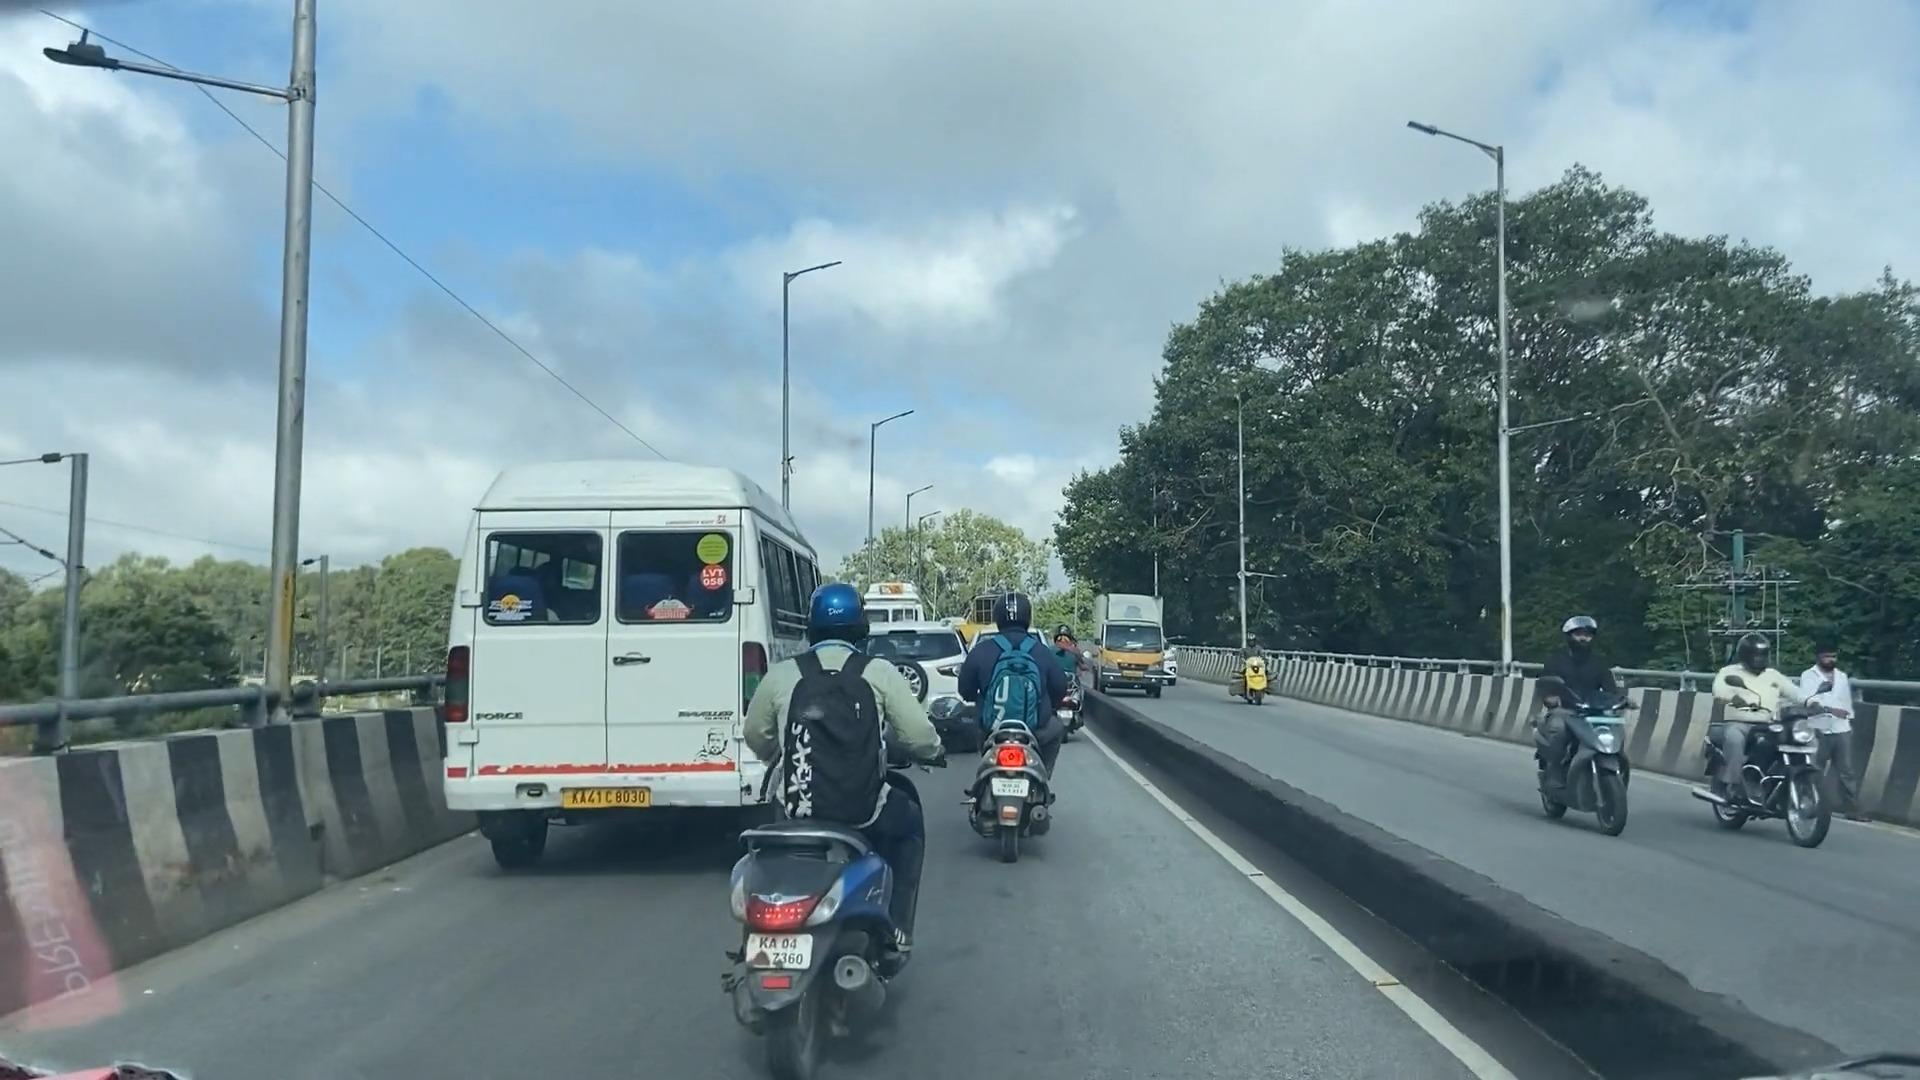HMV: (462, 464, 765, 841)
LMV: (719, 576, 919, 1051), (951, 585, 1052, 876)
